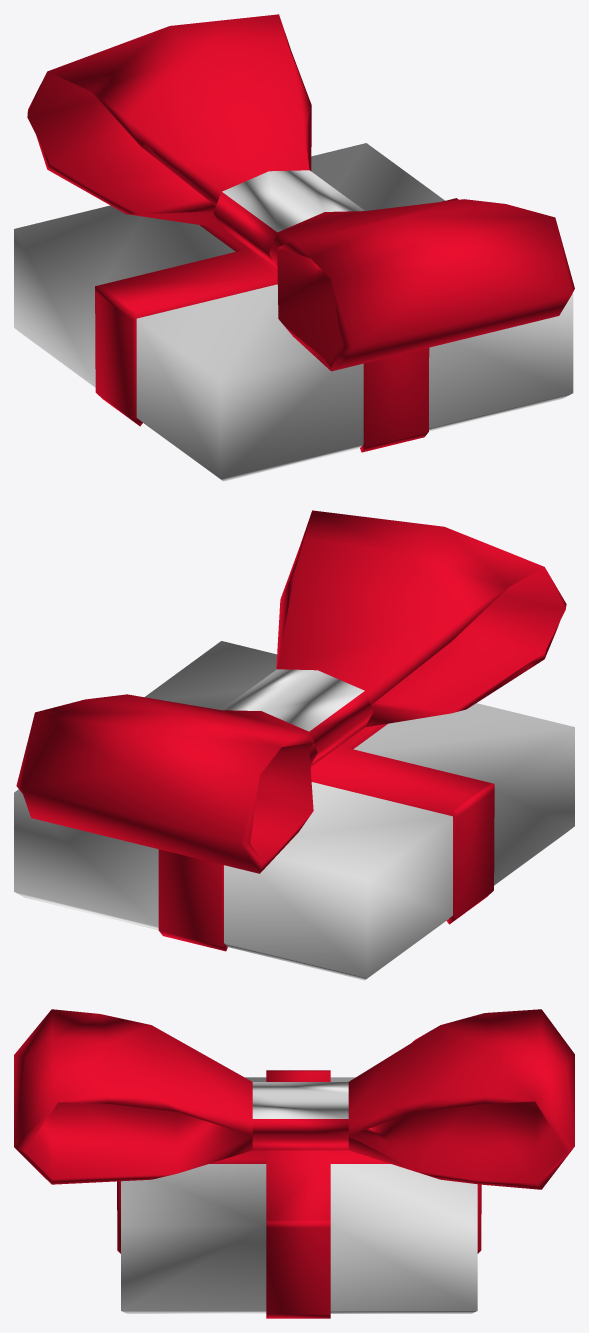
The model's file is box_top.fbx.
3 renders of one model, top to bottom at view 1: azimuth 30°, elevation 25°; view 2: azimuth 150°, elevation 25°; view 3: azimuth 270°, elevation 25°, orthographic. The views are drawn at different scales.
Parts seen in each view (by area): view 1: ribbon1, top; view 2: ribbon1, top; view 3: ribbon1, top.
Boxes of the visible parts, x1=… form: ribbon1: x1=27, y1=14, x2=574, y2=371; top: x1=14, y1=143, x2=573, y2=481; ribbon1: x1=16, y1=510, x2=566, y2=873; top: x1=14, y1=641, x2=574, y2=980; ribbon1: x1=14, y1=1009, x2=574, y2=1189; top: x1=117, y1=1070, x2=481, y2=1318.
Bounding box in the file's own units: 281 × 177 × 437.
